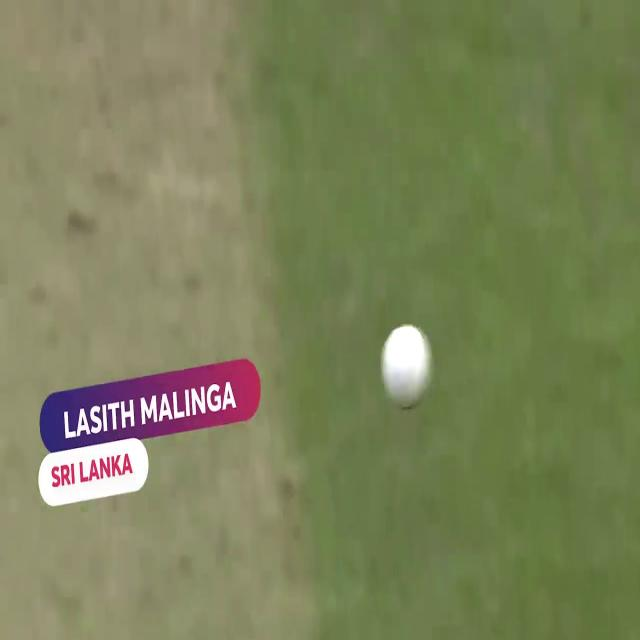ball: (370, 308, 440, 431)
